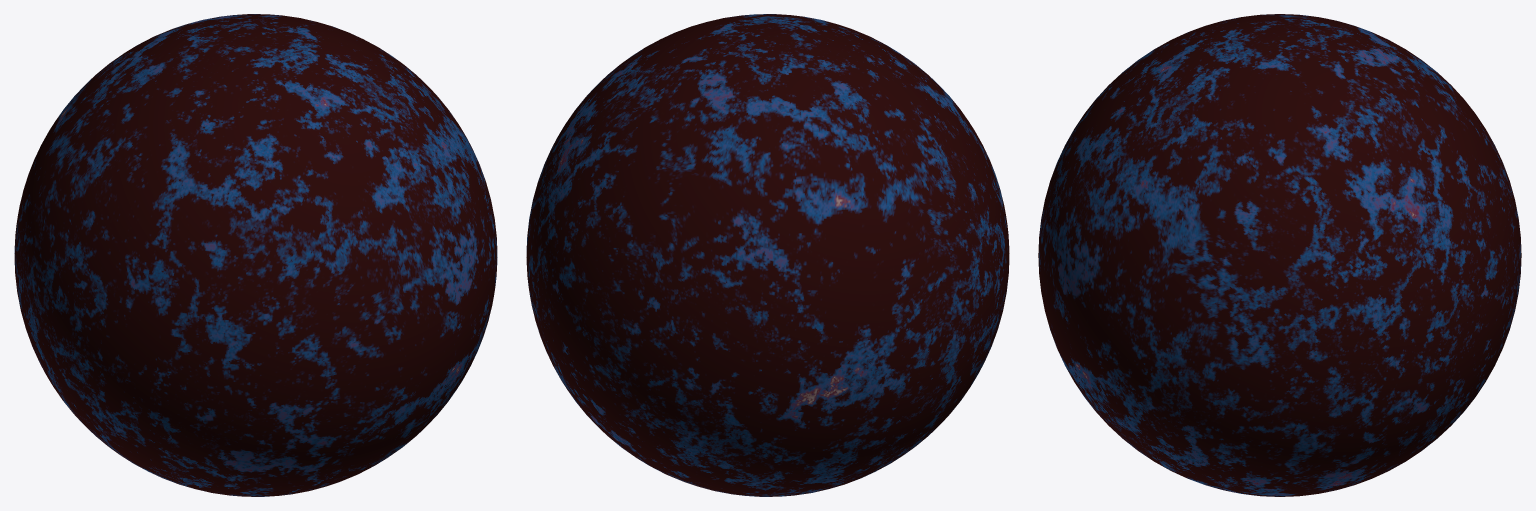
The model's file is moraV.glb.
The picture shows the model from 3 angles, left to right: view 1: azimuth 30°, elevation 25°; view 2: azimuth 150°, elevation 25°; view 3: azimuth 270°, elevation 25°; orthographic projection.
Parts seen in each view (by area): view 1: Planet; view 2: Planet; view 3: Planet.
Part boxes in pixels (left/top/right/bottom): Planet: left=14, top=14, right=497, bottom=496; Planet: left=526, top=14, right=1009, bottom=496; Planet: left=1038, top=14, right=1521, bottom=496.
Bounding box in the file's own units: 1.76 × 1.76 × 1.76.
Materials: 1 (1 with a texture image).
